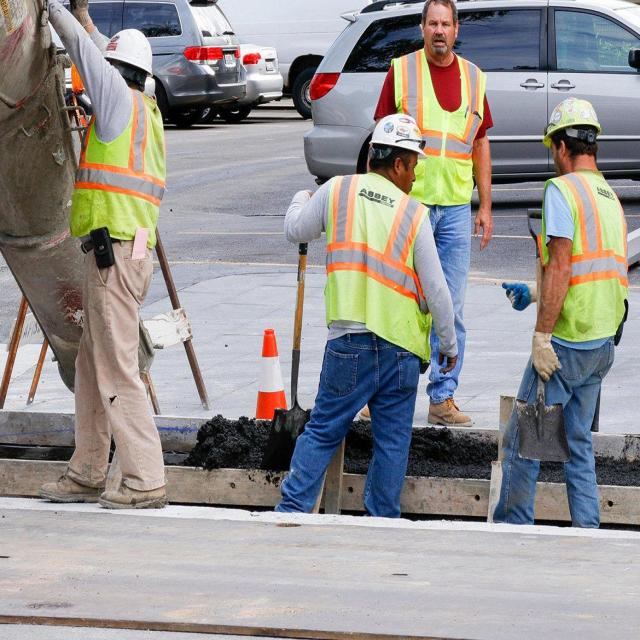Reflective-Jacket: (318, 173, 436, 352), (388, 49, 491, 210), (68, 88, 170, 248), (538, 171, 630, 345)
Safety-Helmet: (540, 94, 605, 144), (366, 109, 428, 158), (102, 27, 156, 73)
